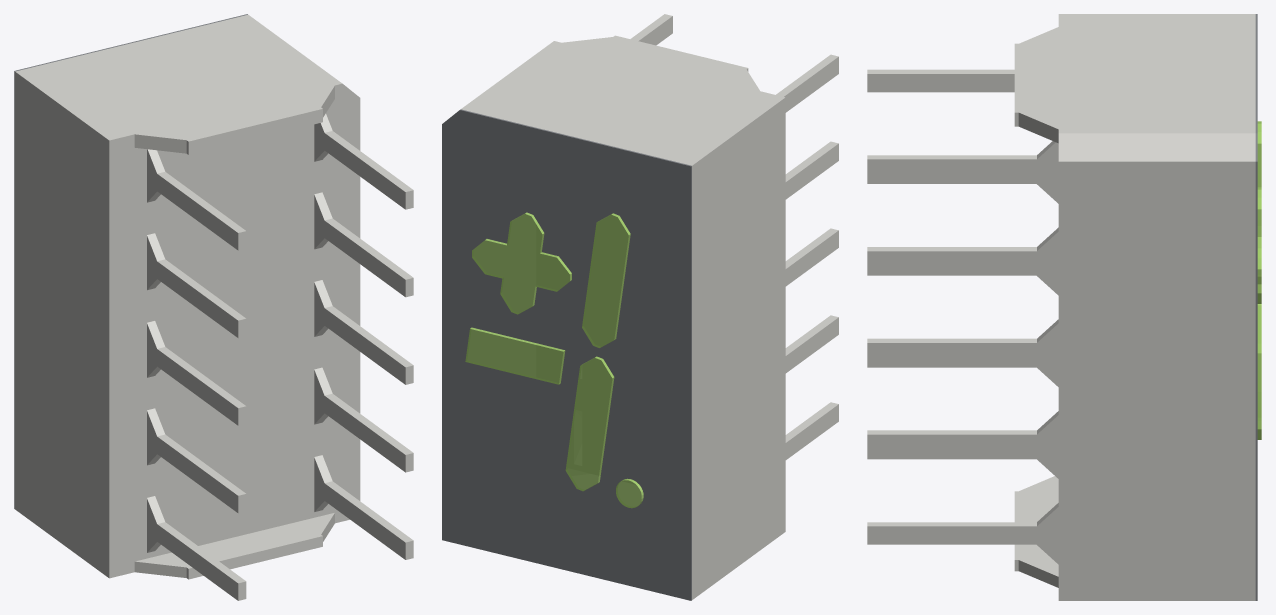
Rendered from HDSP-7807.glb.
3 renders of one model, left to right at view 1: azimuth 30°, elevation 25°; view 2: azimuth 150°, elevation 25°; view 3: azimuth 270°, elevation 25°, orthographic. The views are drawn at different scales.
Visible parts, largest first — view 1: Shape_IndexedFaceSet.010, Shape_IndexedFaceSet.100, Shape_IndexedFaceSet.143, Shape_IndexedFaceSet.016, Shape_IndexedFaceSet.015, Shape_IndexedFaceSet.017, Shape_IndexedFaceSet.090, Shape_IndexedFaceSet.131, Shape_IndexedFaceSet.109, Shape_IndexedFaceSet.113, Shape_IndexedFaceSet.135, Shape_IndexedFaceSet.140 (+18 smaller); view 2: Shape_IndexedFaceSet.164, Shape_IndexedFaceSet.100, Shape_IndexedFaceSet.143, Shape_IndexedFaceSet.209, Shape_IndexedFaceSet.210, Shape_IndexedFaceSet.207, Shape_IndexedFaceSet.215, Shape_IndexedFaceSet.213, Shape_IndexedFaceSet.140, Shape_IndexedFaceSet.113, Shape_IndexedFaceSet.131, Shape_IndexedFaceSet.135 (+5 smaller); view 3: Shape_IndexedFaceSet.097, Shape_IndexedFaceSet.143, Shape_IndexedFaceSet.098, Shape_IndexedFaceSet.115, Shape_IndexedFaceSet.001, Shape_IndexedFaceSet.121, Shape_IndexedFaceSet.126, Shape_IndexedFaceSet.127, Shape_IndexedFaceSet.142, Shape_IndexedFaceSet.017, Shape_IndexedFaceSet.145, Shape_IndexedFaceSet.107 (+15 smaller).
Part boxes in pixels (box(x1,y1,x2,y2)): Shape_IndexedFaceSet.010: box(134, 99, 334, 561); Shape_IndexedFaceSet.100: box(15, 72, 109, 577); Shape_IndexedFaceSet.143: box(15, 14, 341, 141); Shape_IndexedFaceSet.016: box(109, 148, 134, 567); Shape_IndexedFaceSet.015: box(335, 94, 360, 512); Shape_IndexedFaceSet.017: box(135, 513, 334, 568); Shape_IndexedFaceSet.090: box(188, 109, 322, 154); Shape_IndexedFaceSet.131: box(157, 349, 238, 425); Shape_IndexedFaceSet.109: box(157, 524, 238, 600); Shape_IndexedFaceSet.113: box(157, 437, 238, 512); Shape_IndexedFaceSet.135: box(157, 262, 238, 337); Shape_IndexedFaceSet.140: box(157, 174, 238, 250); Shape_IndexedFaceSet.164: box(442, 110, 691, 600); Shape_IndexedFaceSet.100: box(692, 97, 785, 599); Shape_IndexedFaceSet.143: box(461, 35, 784, 165); Shape_IndexedFaceSet.209: box(565, 358, 612, 491); Shape_IndexedFaceSet.210: box(582, 214, 628, 347); Shape_IndexedFaceSet.207: box(465, 329, 563, 384); Shape_IndexedFaceSet.215: box(502, 245, 539, 286); Shape_IndexedFaceSet.213: box(507, 214, 542, 253); Shape_IndexedFaceSet.140: box(784, 57, 838, 112); Shape_IndexedFaceSet.113: box(785, 317, 838, 373); Shape_IndexedFaceSet.131: box(785, 230, 838, 286); Shape_IndexedFaceSet.135: box(785, 143, 838, 199); Shape_IndexedFaceSet.097: box(1058, 161, 1255, 600); Shape_IndexedFaceSet.143: box(1014, 14, 1255, 133); Shape_IndexedFaceSet.098: box(1058, 133, 1255, 161); Shape_IndexedFaceSet.115: box(867, 434, 1036, 452); Shape_IndexedFaceSet.001: box(867, 159, 1036, 177); Shape_IndexedFaceSet.121: box(867, 526, 1036, 544); Shape_IndexedFaceSet.126: box(867, 251, 1036, 269); Shape_IndexedFaceSet.127: box(867, 343, 1036, 361); Shape_IndexedFaceSet.142: box(867, 74, 1014, 92); Shape_IndexedFaceSet.017: box(1014, 476, 1058, 576); Shape_IndexedFaceSet.145: box(1255, 161, 1257, 600); Shape_IndexedFaceSet.107: box(867, 453, 1036, 459).
Size of the model in its own units: 3 by 5 by 3.9.
